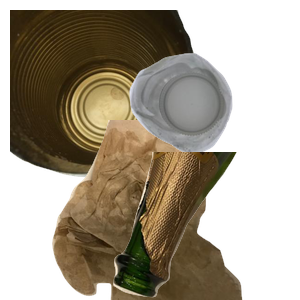glass: (111, 152, 300, 300)
metal: (10, 10, 200, 180)
plastic: (127, 51, 300, 197)
trash: (50, 120, 285, 300)
